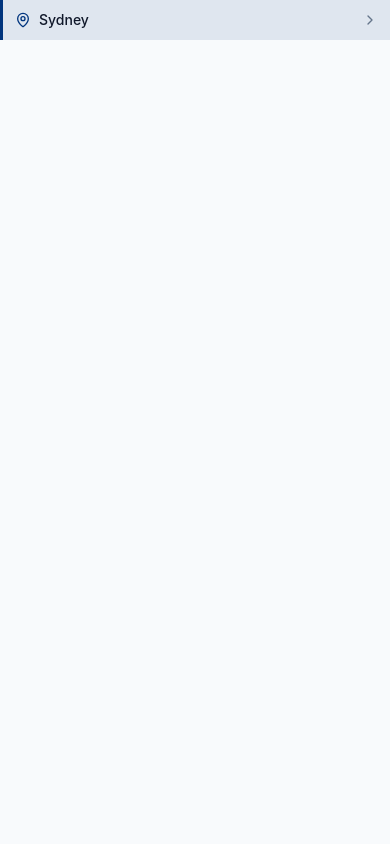
TripSummarySheet — accessibility (M1.1) › Escape key closes the sheet
Click the button. click: coordinates (64, 20)
box: [0,0,389,40]
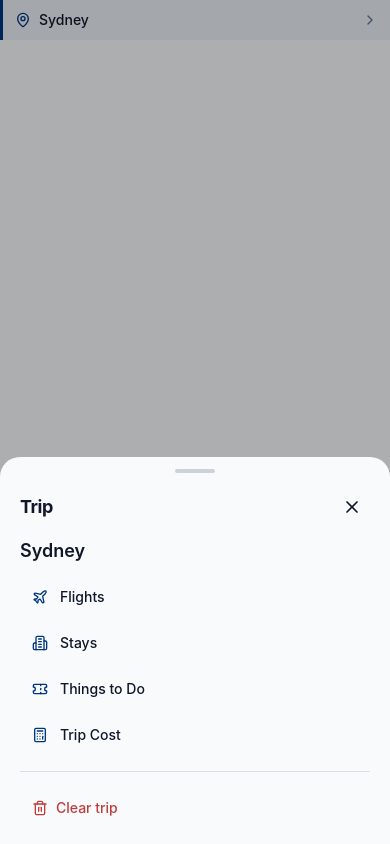
expect the dialog is shown: met
Press Escape in the dialog
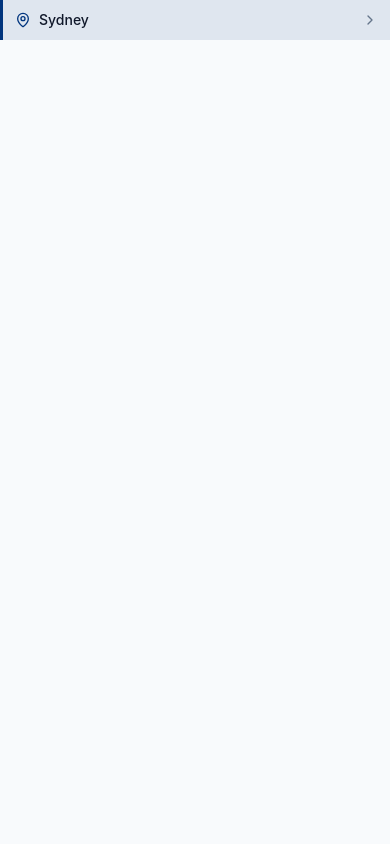
expect the dialog is gone: met
